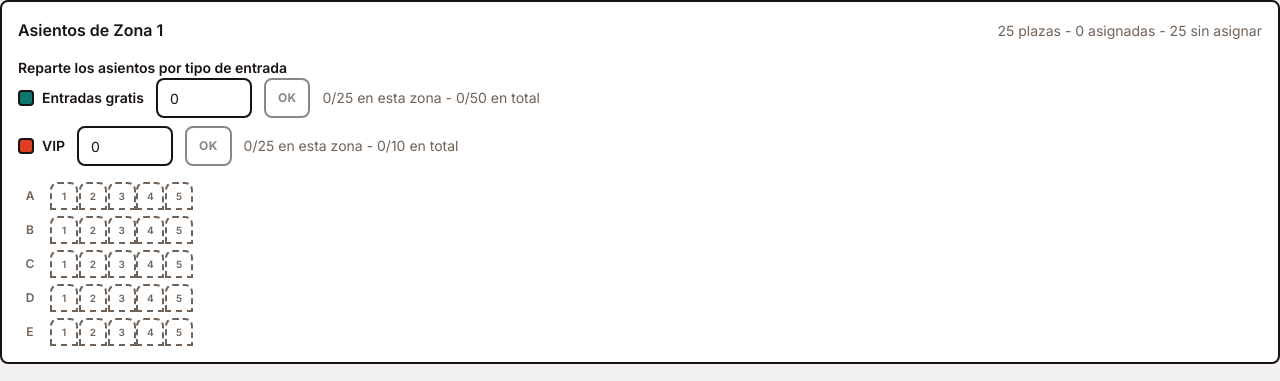
Test: ZoneSeatEditor › typed quantity › applies the quantity with the OK button
Replace the text in the number field named "Asientos de Entradas gratis en Zona 1" next to "Entradas gratis" with "12": coordinates (204, 98) [156,78,252,118]
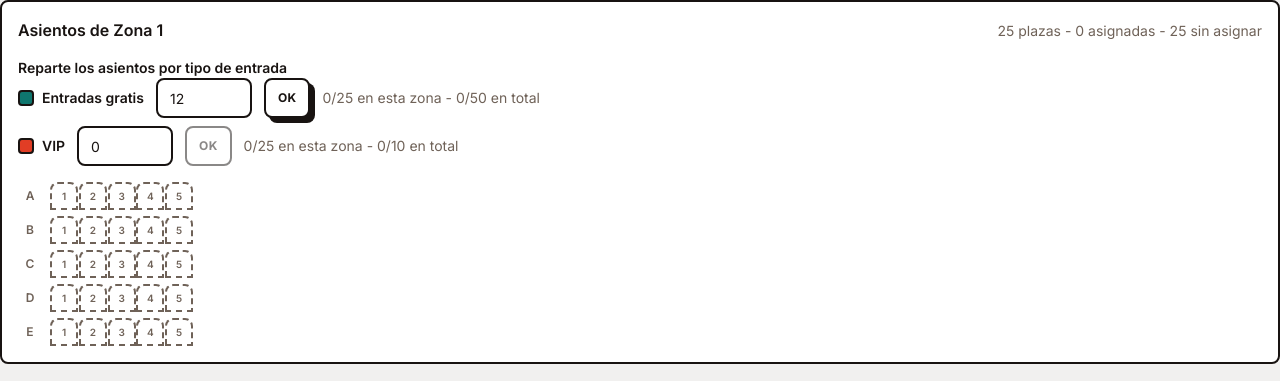
Click the button with aria-label "Aplicar cantidad de Entradas gratis": coordinates (287, 98) [264,78,310,118]
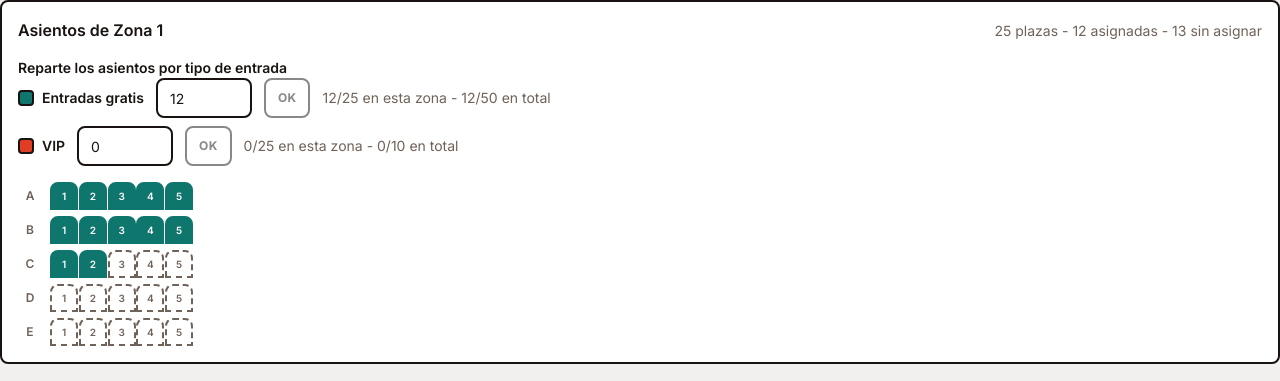
Now the text "25 plazas - 12 asignadas - 13 sin asignar" is shown, box [994,21,1262,41]
